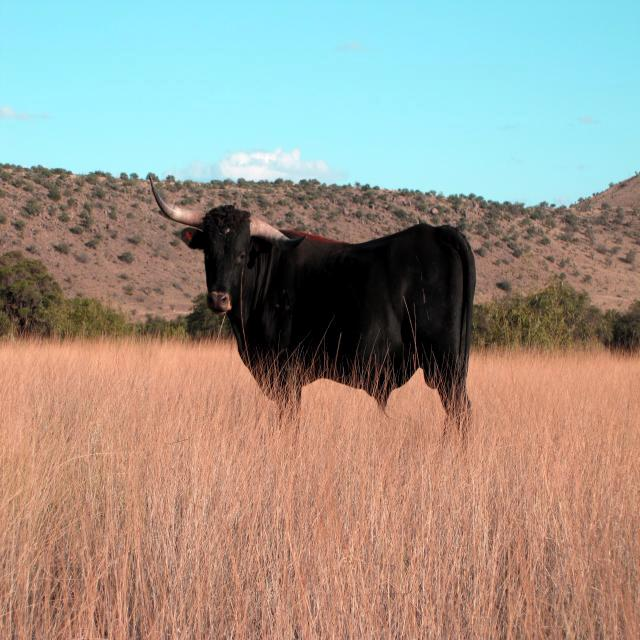COW: (150, 180, 475, 423)
